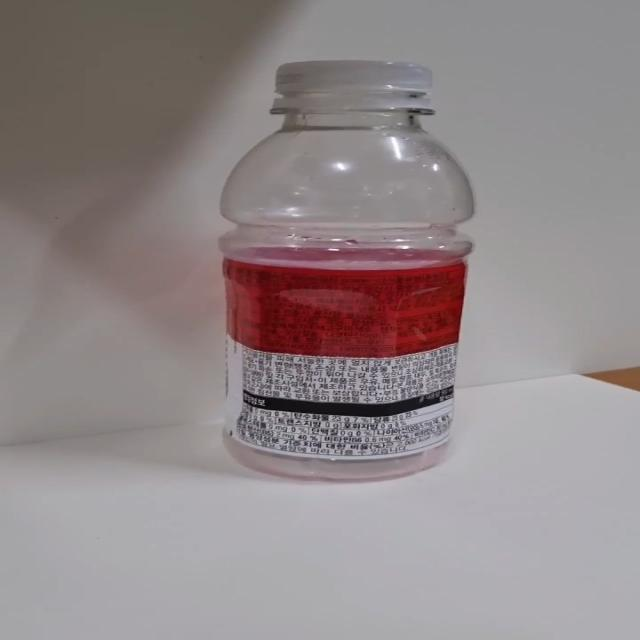Plastic: (216, 61, 477, 486)
